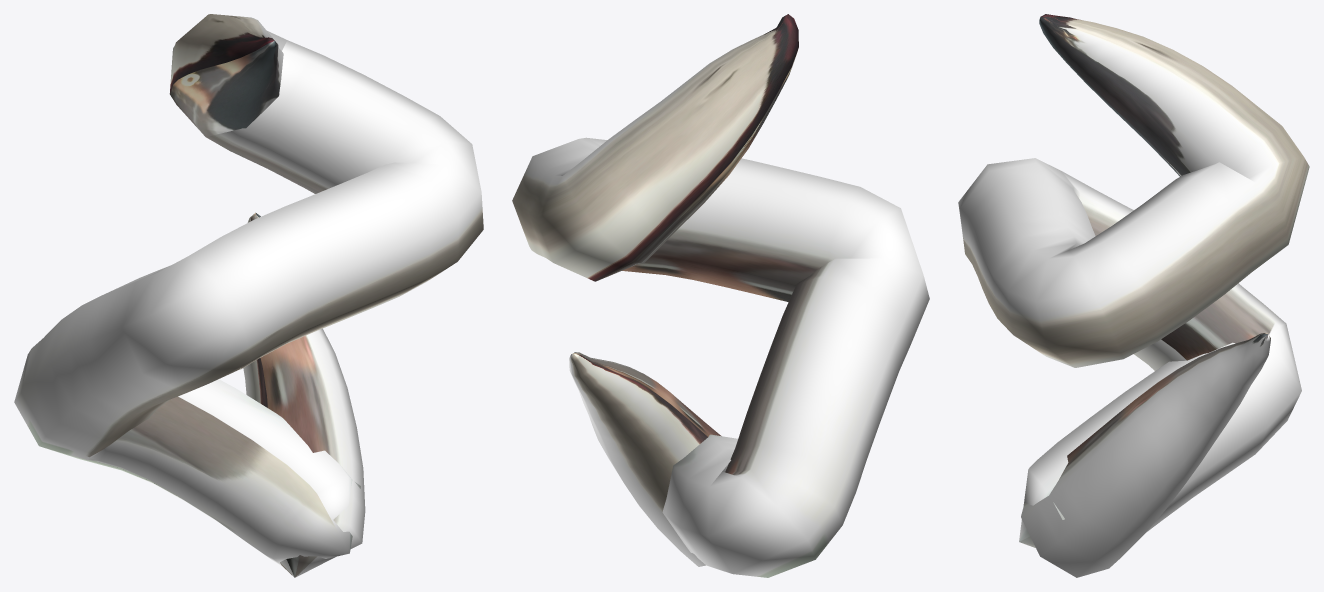
3 views of the same model, side by side, from view 1: azimuth 30°, elevation 25°; view 2: azimuth 150°, elevation 25°; view 3: azimuth 270°, elevation 25° (orthographic). The views are drawn at different scales.
Visible parts, largest first — view 1: Toon_geo; view 2: Toon_geo; view 3: Toon_geo.
Boxes of the visible parts, left/top/right/bottom form: Toon_geo: left=14, top=14, right=483, bottom=577; Toon_geo: left=512, top=14, right=929, bottom=577; Toon_geo: left=958, top=14, right=1309, bottom=577.
Size of the model in its own units: 63.41 by 87.02 by 52.62.
